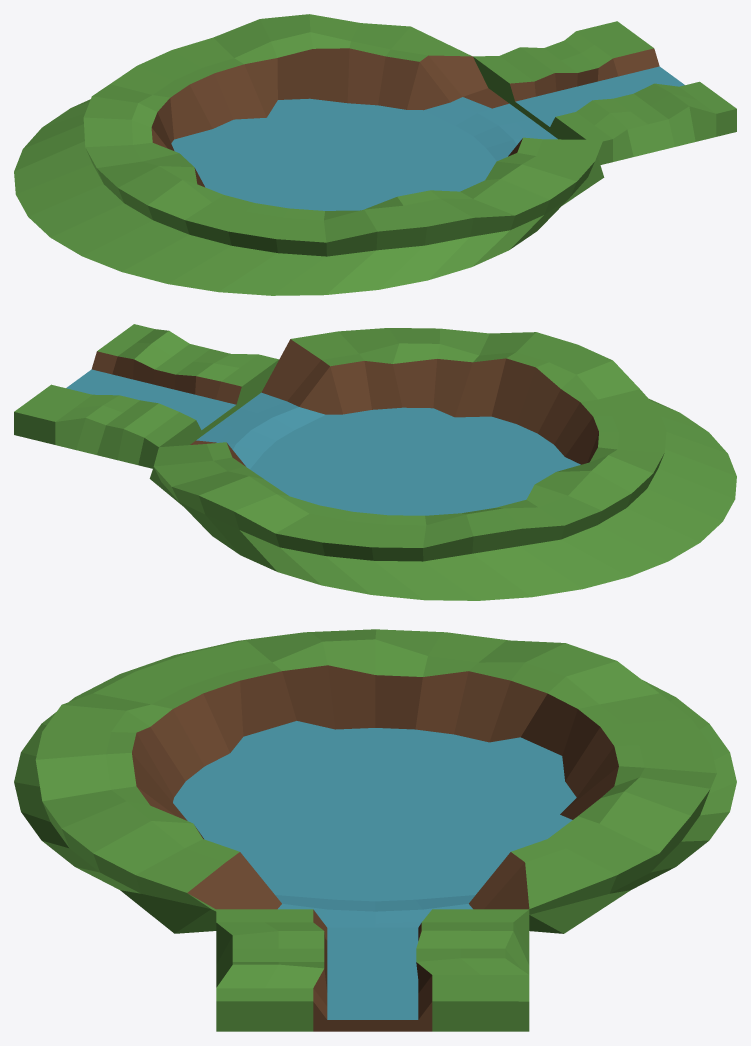
Rendered from terrain_end.fbx.
The picture shows the model from 3 angles, top to bottom: view 1: azimuth 30°, elevation 25°; view 2: azimuth 150°, elevation 25°; view 3: azimuth 270°, elevation 25°; orthographic projection. The views are drawn at different scales.
Parts seen in each view (by area): view 1: Cylinder, Cube; view 2: Cylinder, Cube; view 3: Cylinder, Cube.
Part boxes in pixels (bbox=[...]): Cylinder: bbox=[14, 14, 604, 295]; Cube: bbox=[473, 21, 736, 164]; Cylinder: bbox=[149, 328, 736, 600]; Cube: bbox=[14, 324, 278, 468]; Cylinder: bbox=[14, 629, 736, 933]; Cube: bbox=[216, 909, 529, 1031].
Bounding box in the file's own units: 6585 × 519 × 5037.
